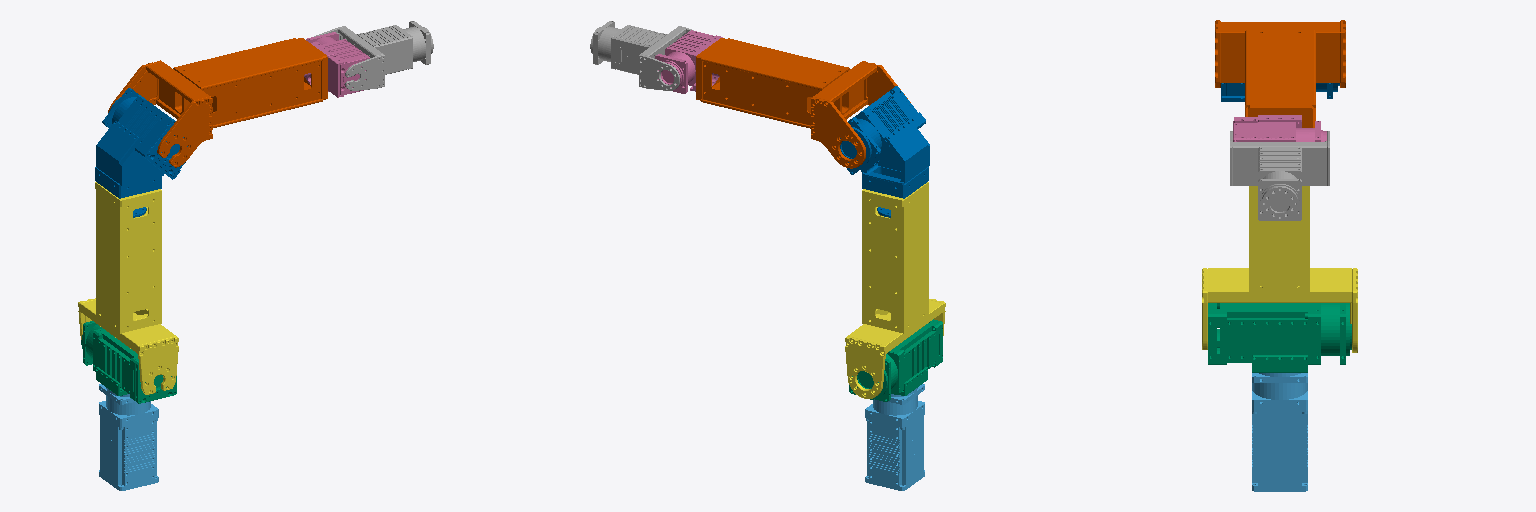
URDF robot description (right_arm_assembly):
<?xml version="1.0" encoding="utf-8"?>
<!-- =================================================================================== -->
<!-- |    This document was autogenerated by xacro from pibot_right_arm.urdf.xacro     | -->
<!-- |    EDITING THIS FILE BY HAND IS NOT RECOMMENDED                                 | -->
<!-- =================================================================================== -->
<robot name="right_arm_assembly">
  
  <!-- World -->
  <link name="world"/>
  <!-- World fixed joint-->
  <joint name="world_fixed" type="fixed">
    <origin rpy="0 0 0" xyz="0 0 0"/>
    <parent link="world"/>
    <child link="link1"/>
  </joint>


  <!-- link 1 -->
  <link name="link1">
    <visual>
      <origin rpy="0 0 0" xyz="0 0 0"/>
      <geometry>
        <mesh filename="package://open_manipulator_7dof_description/meshes/link1.stl" scale="0.001 0.001 0.001"/>
      </geometry>
    </visual>
    <collision>
      <origin rpy="0 0 0" xyz="0 0 0"/>
      <geometry>
        <mesh filename="package://open_manipulator_7dof_description/meshes/link1.stl" scale="0.001 0.001 0.001"/>
      </geometry>
    </collision>
    <inertial>
      <origin rpy="0 0 0" xyz="0.000001 0.000000 0.060920"/>
      <mass value="0.902"/>
      <inertia ixx="1342.575E-6" ixy="0.0" ixz="0.010E-6" iyy="1345.406E-6" iyz="0.0" izz="396.860E-6"/>
    </inertial>
  </link>
  <!-- Joint 1 -->
  <joint name="joint1" type="revolute">
    <parent link="link1"/>
    <child link="link2"/>
    <origin rpy="0 0 0" xyz="0.0 0.0 0.126"/>
    <axis xyz="0 0 1"/>
    <limit effort="1000" lower="-1.57079632679" upper="1.57079632679" velocity="6.5"/>
    <dynamics damping="0.7"/>
  </joint>
  <!-- link 2 -->
  <link name="link2">
    <visual>
      <origin rpy="0 0 0" xyz="0 0 0"/>
      <geometry>
        <mesh filename="package://open_manipulator_7dof_description/meshes/link2.stl" scale="0.001 0.001 0.001"/>
      </geometry>
    </visual>
    <collision>
      <origin rpy="0 0 0" xyz="0 0 0"/>
      <geometry>
        <mesh filename="package://open_manipulator_7dof_description/meshes/link2.stl" scale="0.001 0.001 0.001"/>
      </geometry>
    </collision>
    <inertial>
      <origin rpy="0 0 0" xyz="0.000000 0.421E-3 32.021E-3"/>
      <mass value="0.985"/>
      <inertia ixx="1612.691E-6" ixy="0.0" ixz="0.0" iyy="472.943E-6" iyz="-0.4E-6" izz="1600.221E-6"/>
    </inertial>

  </link>
  <!-- Joint 2 -->
  <joint name="joint2" type="revolute">
    <parent link="link2"/>
    <child link="link3"/>
    <origin rpy="0 0 0" xyz="0.0 0.069 0.033"/>
    <axis xyz="0 1 0"/>
    <limit effort="1000" lower="-1.57079632679" upper="1.57079632679" velocity="6.5"/>
    <dynamics damping="0.7"/>
  </joint>
  <!-- link 3 -->
  <link name="link3">
    <visual>
      <origin rpy="0 0 0" xyz="0 0 0"/>
      <geometry>
        <mesh filename="package://open_manipulator_7dof_description/meshes/link3.stl" scale="0.001 0.001 0.001"/>
      </geometry>
    </visual>
    <collision>
      <origin rpy="0 0 0" xyz="0 0 0"/>
      <geometry>
        <mesh filename="package://open_manipulator_7dof_description/meshes/link3.stl" scale="0.001 0.001 0.001"/>
      </geometry>
    </collision>
    <inertial>
      <origin rpy="0 0 0" xyz="0.001E-3 -68.958E-3 120.657E-3"/>
      <mass value="0.985"/>
      <inertia ixx="4433.148E-6" ixy="0.0" ixz="-0.018E-6" iyy="3879.057E-6" iyz="9.953E-6" izz="1285.471E-6"/>
    </inertial>

  </link>
  <!-- Joint 3 -->
  <joint name="joint3" type="revolute">
    <parent link="link3"/>
    <child link="link4"/>
    <origin rpy="0 0 0" xyz="0.0 -0.069 0.195"/>
    <axis xyz="0 0 1"/>
    <limit effort="1000" lower="-1.57079632679" upper="1.57079632679" velocity="6.5"/>
    <dynamics damping="0.7"/>
  </joint>
  <!-- link 4 -->
  <link name="link4">
    <visual>
      <origin rpy="0 0 0" xyz="0 0 0"/>
      <geometry>
        <mesh filename="package://open_manipulator_7dof_description/meshes/link4.stl" scale="0.001 0.001 0.001"/>
      </geometry>
    </visual>
    <collision>
      <origin rpy="0 0 0" xyz="0 0 0"/>
      <geometry>
        <mesh filename="package://open_manipulator_7dof_description/meshes/link4.stl" scale="0.001 0.001 0.001"/>
      </geometry>
    </collision>
    <inertial>
      <origin rpy="0 0 0" xyz="21.795E-3 -1.918E-3 85.932E-3"/>
      <mass value="1.081"/>
      <inertia ixx="1662.022E-6" ixy="-14.548E-6" ixz="-271.017E-6" iyy="1232.420E-6" iyz="-0.604E-6" izz="1397.843E-6"/>
    </inertial>

  </link>
  <!-- Joint 4 -->
  <joint name="joint4" type="revolute">
    <parent link="link4"/>
    <child link="link5"/>
    <origin rpy="0 0 0" xyz="0.029998 0.05750 0.097498"/>
    <axis xyz="0 1 0"/>
    <limit effort="1000" lower="-1.57079632679" upper="1.57079632679" velocity="6.5"/>
    <dynamics damping="0.7"/>
  </joint>
  <!-- link 5 -->
  <link name="link5">
    <visual>
      <origin rpy="0 0 0" xyz="0 0 0"/>
      <geometry>
        <mesh filename="package://open_manipulator_7dof_description/meshes/link5.stl" scale="0.001 0.001 0.001"/>
      </geometry>
    </visual>
    <collision>
      <origin rpy="0 0 0" xyz="0 0 0"/>
      <geometry>
        <mesh filename="package://open_manipulator_7dof_description/meshes/link5.stl" scale="0.001 0.001 0.001"/>
      </geometry>
    </collision>
    <inertial>
      <origin rpy="0 0 0" xyz="119.819E-3 -56.958E-3 29.666E-3"/>
      <mass value="1.284"/>
      <inertia ixx="1202.512E-6" ixy="1.548E-6" ixz="-59.770E-6" iyy="4162.303E-6" iyz="0.997E-6" izz="4540.508E-6"/>
    </inertial>

  </link>
  <!-- Joint 5 -->
  <joint name="joint5" type="revolute">
    <parent link="link5"/>
    <child link="link6"/>
    <origin rpy="0 0 0" xyz="0.195 -0.05750 0.03"/>
    <axis xyz="1 0 0"/>
    <limit effort="1000" lower="-1.57079632679" upper="1.57079632679" velocity="6.5"/>
    <dynamics damping="0.7"/>
  </joint>
  <!-- link 6 -->
  <link name="link6">
    <visual>
      <origin rpy="0 0 0" xyz="0 0 0"/>
      <geometry>
        <mesh filename="package://open_manipulator_7dof_description/meshes/link6.stl" scale="0.001 0.001 0.001"/>
      </geometry>
    </visual>
    <collision>
      <origin rpy="0 0 0" xyz="0 0 0"/>
      <geometry>
        <mesh filename="package://open_manipulator_7dof_description/meshes/link6.stl" scale="0.001 0.001 0.001"/>
      </geometry>
    </collision>
    <inertial>
      <origin rpy="0 0 0" xyz="57.143E-3 -2.069E-3 0.000E-3"/>
      <mass value="0.450"/>
      <inertia ixx="305.515E-6" ixy="0.227E-6" ixz="0.0" iyy="211.744E-6" iyz="0.0" izz="390.522E-6"/>
    </inertial>

  </link>
  <!-- Joint 6 -->
  <joint name="joint6" type="revolute">
    <parent link="link6"/>
    <child link="link7"/>
    <origin rpy="0 0 0" xyz="0.063 0.045 0.0"/>
    <axis xyz="0 1 0"/>
    <limit effort="1000" lower="-1.57079632679" upper="1.57079632679" velocity="6.5"/>
    <dynamics damping="0.7"/>
  </joint>
  <!-- link 7 -->
  <link name="link7">
    <visual>
      <origin rpy="0 0 0" xyz="0 0 0"/>
      <geometry>
        <mesh filename="package://open_manipulator_7dof_description/meshes/link7.stl" scale="0.001 0.001 0.001"/>
      </geometry>
    </visual>
    <collision>
      <origin rpy="0 0 0" xyz="0 0 0"/>
      <geometry>
        <mesh filename="package://open_manipulator_7dof_description/meshes/link7.stl" scale="0.001 0.001 0.001"/>
      </geometry>
    </collision>
    <inertial>
      <origin rpy="0 0 0" xyz="69.744E-3 -45.936E-3 -0.000E-3"/>
      <mass value="0.436"/>
      <inertia ixx="194.743E-6" ixy="-22.422E-6" ixz="-0.000" iyy="415.899E-6" iyz="0.0" izz="483.314E-6"/>
    </inertial>

  </link>
  <!-- Joint 7 -->
  <joint name="joint7" type="revolute">
    <parent link="link7"/>
    <child link="end_link"/>
    <origin rpy="0 0 0" xyz="0.1230 -0.045 0.0"/>
    <axis xyz="1 0 0"/>
    <limit effort="1000" lower="-1.57079632679" upper="1.57079632679" velocity="6.5"/>
    <dynamics damping="0.7"/>
  </joint>

  <!-- end link -->
   <link name="end_link">
    <visual>
      <origin rpy="0 0 0" xyz="0.0 0.0 0.0"/>
      <geometry>
        <mesh filename="package://open_manipulator_7dof_description/meshes/end_link.stl" scale="0.001 0.001 0.001"/>
      </geometry>
      <material name="grey"/>
    </visual>
    <collision>
      <origin rpy="0 0 0" xyz="0.0 0.0 0.0"/>
      <geometry>
        <mesh filename="package://open_manipulator_7dof_description/meshes/end_link.stl" scale="0.001 0.001 0.001"/>
      </geometry>
    </collision>
    <inertial>
      <origin rpy="0 0 0" xyz="0.00337 0.00000 0.00000"/>
      <!-- <mass value="0.01919"/>
      <inertia ixx="1.0" ixy="0.0" ixz="0.0" iyy="1.0" iyz="0.0" izz="1.0"/> -->
      <!-- Fake inertial -->
      <mass value="0.0000000000000000000000000000001"/>
      <inertia ixx="0.0" iyy="0.0" izz="0.0" ixy="+0.0" iyz="+0.0" ixz="-0.0"/>
      <!--<inertia ixx="0.00000938" ixy="0.0" ixz="0.0" iyy="0.00000338" iyz="0.0" izz="0.00000635" /> -->
    </inertial>
  </link>
</robot>

--- Facts derived from the render (not from the file) ---
3 views of the same robot in one strip: view 1: azimuth 30°, elevation 25°; view 2: azimuth 150°, elevation 25°; view 3: azimuth 270°, elevation 25° (orthographic).
Model right_arm_assembly with 9 links and 8 joints (7 revolute, 1 fixed), rooted at world, posed all joints at 0.
Visible links, largest first — view 1: link5, link3, link4, link1, link7, link2, link6; view 2: link5, link3, link4, link1, link7, link2, link6; view 3: link5, link3, link2, link1, link7, link6, link4.
Boxes of the visible links, x1=… form: link5: x1=108, y1=38, x2=327, y2=167; link3: x1=78, y1=182, x2=178, y2=394; link4: x1=95, y1=88, x2=187, y2=217; link1: x1=99, y1=384, x2=158, y2=490; link7: x1=314, y1=21, x2=433, y2=90; link2: x1=81, y1=321, x2=176, y2=403; link6: x1=304, y1=32, x2=369, y2=97; link5: x1=696, y1=38, x2=910, y2=168; link3: x1=845, y1=182, x2=945, y2=398; link4: x1=840, y1=86, x2=929, y2=217; link1: x1=865, y1=384, x2=924, y2=490; link7: x1=590, y1=21, x2=693, y2=90; link2: x1=849, y1=319, x2=942, y2=401; link6: x1=655, y1=30, x2=722, y2=93; link5: x1=1215, y1=20, x2=1345, y2=127; link3: x1=1202, y1=186, x2=1357, y2=352; link2: x1=1208, y1=303, x2=1351, y2=372; link1: x1=1252, y1=373, x2=1307, y2=491; link7: x1=1230, y1=131, x2=1329, y2=220; link6: x1=1233, y1=115, x2=1326, y2=141; link4: x1=1221, y1=83, x2=1339, y2=101.
Size in the robot's own frame: 0.441 by 0.148 by 0.5105 metres.
7 mesh visuals loaded from 8 distinct referenced files (7 binary STL); not drawn: 1 (reference not matched to a file when rendering).
